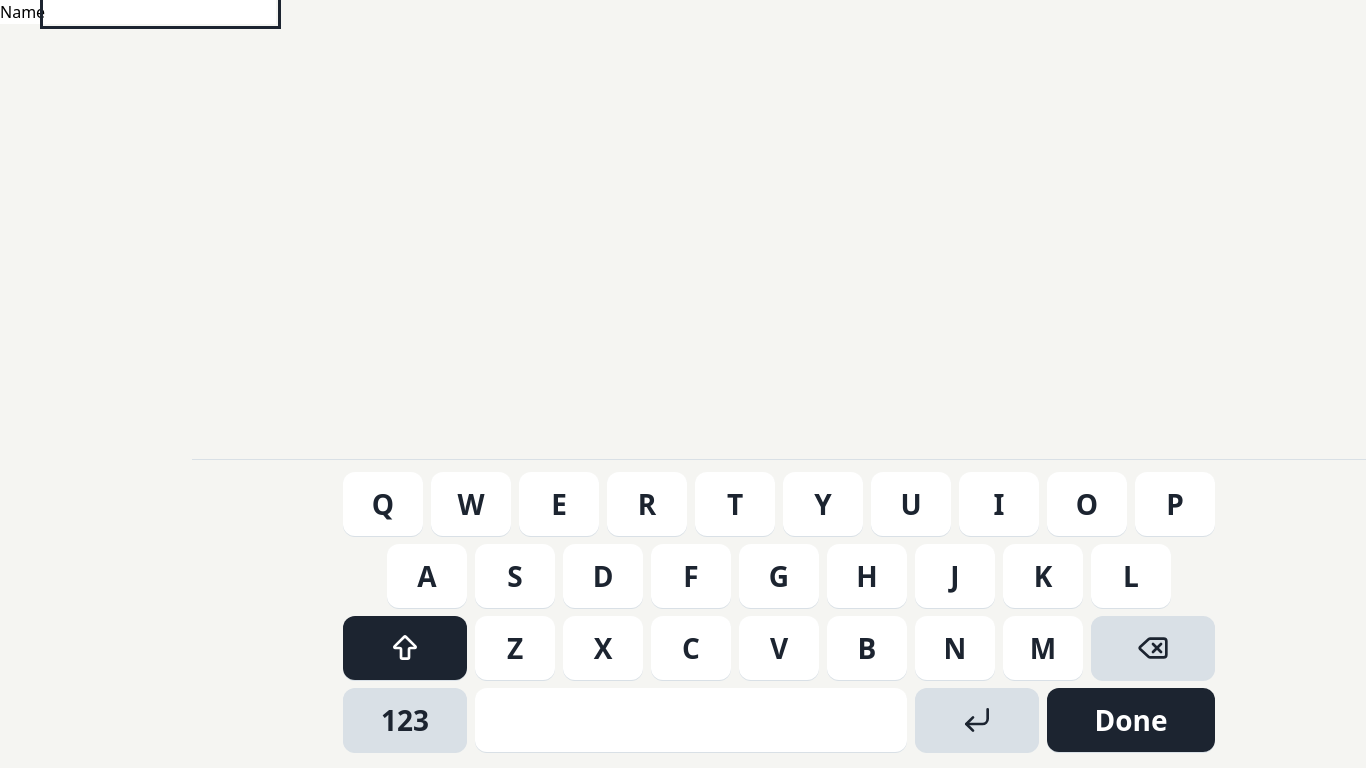
Test: the on-screen keyboard (UX §1) › goes inside an open sheet, because the page behind a modal dialog can't be tapped
Click the button "L" at (1131, 576), box left=1091, top=544, right=1171, bottom=608
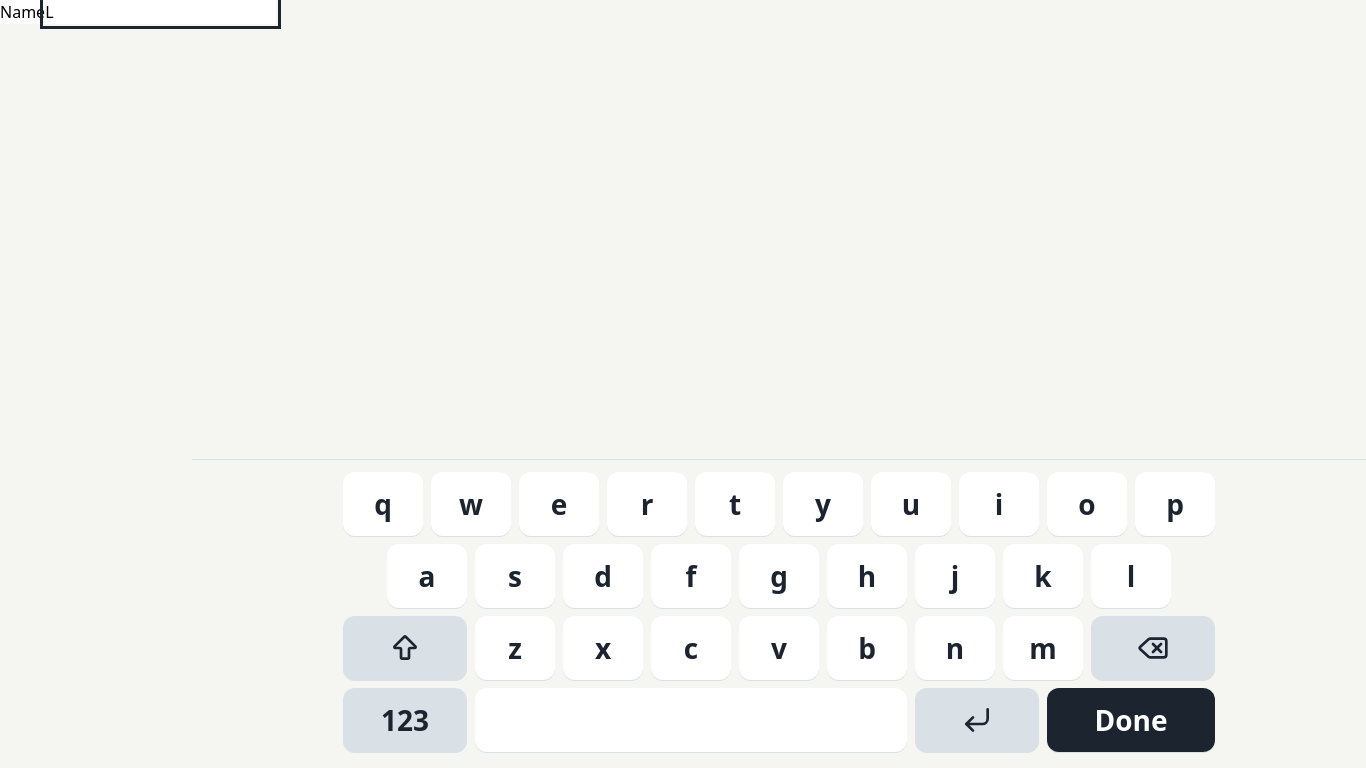
Expected: the field labelled "Name" holds "L", left=45, top=0, right=276, bottom=24
